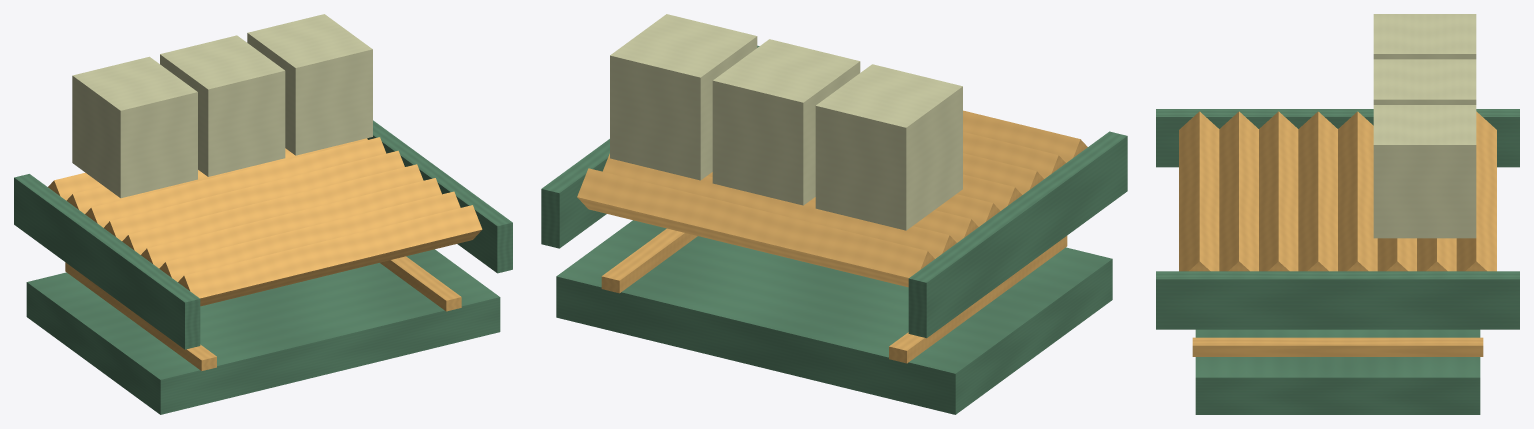
File: atlas100-s004-a01.lod2.glb
3 renders of one model, left to right at view 1: azimuth 30°, elevation 25°; view 2: azimuth 150°, elevation 25°; view 3: azimuth 270°, elevation 25°, orthographic. The views are drawn at different scales.
Visible parts, largest first — view 1: atlas100-s004-a01:part-000, atlas100-s004-a01:part-013, atlas100-s004-a01:part-017, atlas100-s004-a01:part-015, atlas100-s004-a01:part-011, atlas100-s004-a01:part-010, atlas100-s004-a01:part-005, atlas100-s004-a01:part-007, atlas100-s004-a01:part-009, atlas100-s004-a01:part-006, atlas100-s004-a01:part-008, atlas100-s004-a01:part-012 (+4 smaller); view 2: atlas100-s004-a01:part-000, atlas100-s004-a01:part-013, atlas100-s004-a01:part-015, atlas100-s004-a01:part-017, atlas100-s004-a01:part-011, atlas100-s004-a01:part-003, atlas100-s004-a01:part-004, atlas100-s004-a01:part-012, atlas100-s004-a01:part-010, atlas100-s004-a01:part-001, atlas100-s004-a01:part-002, atlas100-s004-a01:part-009 (+4 smaller); view 3: atlas100-s004-a01:part-012, atlas100-s004-a01:part-000, atlas100-s004-a01:part-017, atlas100-s004-a01:part-010, atlas100-s004-a01:part-007, atlas100-s004-a01:part-008, atlas100-s004-a01:part-009, atlas100-s004-a01:part-002, atlas100-s004-a01:part-006, atlas100-s004-a01:part-011, atlas100-s004-a01:part-015, atlas100-s004-a01:part-013 (+3 smaller).
Part boxes in pixels (bbox=[...]): atlas100-s004-a01:part-000: bbox=[26, 249, 500, 414]; atlas100-s004-a01:part-013: bbox=[72, 56, 197, 198]; atlas100-s004-a01:part-017: bbox=[247, 14, 372, 155]; atlas100-s004-a01:part-015: bbox=[160, 35, 285, 176]; atlas100-s004-a01:part-011: bbox=[14, 174, 200, 349]; atlas100-s004-a01:part-010: bbox=[178, 205, 482, 306]; atlas100-s004-a01:part-005: bbox=[85, 137, 386, 227]; atlas100-s004-a01:part-007: bbox=[122, 164, 423, 254]; atlas100-s004-a01:part-009: bbox=[159, 191, 460, 281]; atlas100-s004-a01:part-006: bbox=[104, 150, 404, 240]; atlas100-s004-a01:part-008: bbox=[141, 178, 441, 268]; atlas100-s004-a01:part-012: bbox=[367, 120, 512, 273]; atlas100-s004-a01:part-000: bbox=[556, 220, 1112, 414]; atlas100-s004-a01:part-013: bbox=[815, 64, 962, 230]; atlas100-s004-a01:part-015: bbox=[712, 39, 860, 205]; atlas100-s004-a01:part-017: bbox=[610, 14, 757, 180]; atlas100-s004-a01:part-011: bbox=[908, 131, 1127, 338]; atlas100-s004-a01:part-003: bbox=[577, 168, 934, 287]; atlas100-s004-a01:part-004: bbox=[602, 153, 956, 258]; atlas100-s004-a01:part-012: bbox=[541, 45, 759, 248]; atlas100-s004-a01:part-010: bbox=[963, 110, 1087, 162]; atlas100-s004-a01:part-001: bbox=[889, 236, 1067, 363]; atlas100-s004-a01:part-002: bbox=[601, 228, 697, 293]; atlas100-s004-a01:part-009: bbox=[963, 132, 1065, 178]; atlas100-s004-a01:part-012: bbox=[1156, 271, 1519, 329]; atlas100-s004-a01:part-000: bbox=[1195, 329, 1480, 414]; atlas100-s004-a01:part-017: bbox=[1373, 105, 1476, 238]; atlas100-s004-a01:part-010: bbox=[1179, 111, 1219, 271]; atlas100-s004-a01:part-007: bbox=[1298, 111, 1337, 271]; atlas100-s004-a01:part-008: bbox=[1259, 111, 1298, 271]; atlas100-s004-a01:part-009: bbox=[1219, 111, 1258, 271]; atlas100-s004-a01:part-002: bbox=[1192, 337, 1483, 356]; atlas100-s004-a01:part-006: bbox=[1338, 111, 1377, 271]; atlas100-s004-a01:part-011: bbox=[1156, 109, 1519, 167]; atlas100-s004-a01:part-015: bbox=[1373, 59, 1476, 104]; atlas100-s004-a01:part-013: bbox=[1373, 14, 1476, 59].
Bounding box in the file's own units: 2.64 × 1.73 × 2.3.
Materials: 3 (3 with a texture image).
